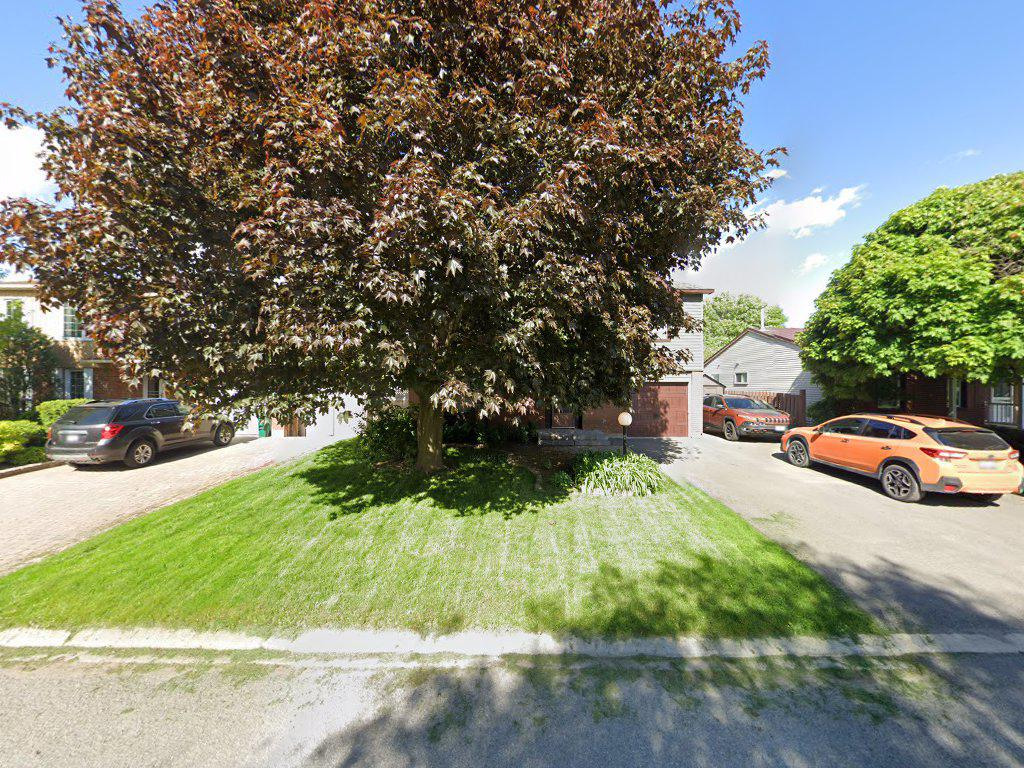trunk: (414, 378, 448, 481)
